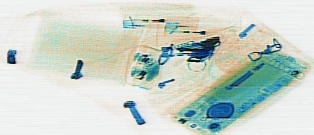lighter: (121, 12, 195, 30), (163, 21, 235, 37)
